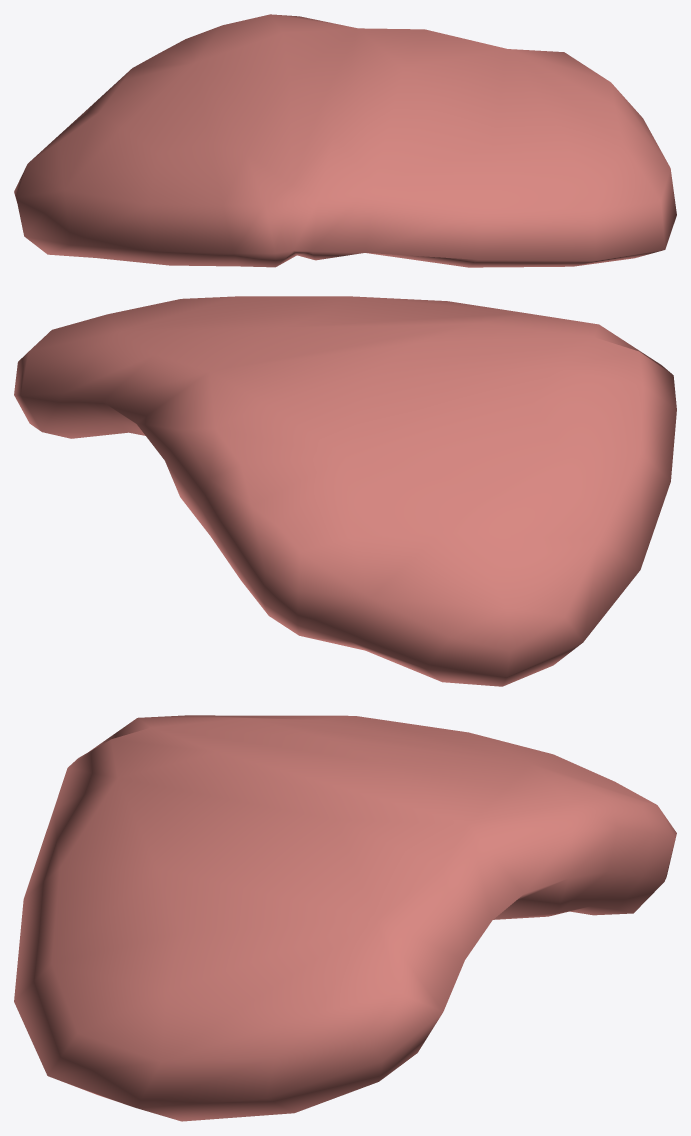
The picture shows the model from 3 angles, top to bottom: view 1: azimuth 30°, elevation 25°; view 2: azimuth 150°, elevation 25°; view 3: azimuth 270°, elevation 25°; orthographic projection. The views are drawn at different scales.
Visible parts, largest first — view 1: ZA_c529fd9b30bb1d8e; view 2: ZA_c529fd9b30bb1d8e; view 3: ZA_c529fd9b30bb1d8e.
Boxes of the visible parts, left/top/right/bottom form: ZA_c529fd9b30bb1d8e: left=14, top=14, right=676, bottom=267; ZA_c529fd9b30bb1d8e: left=14, top=296, right=676, bottom=686; ZA_c529fd9b30bb1d8e: left=14, top=715, right=676, bottom=1121.
Size of the model in its own units: 0.00292 by 0.000883 by 0.00252.
